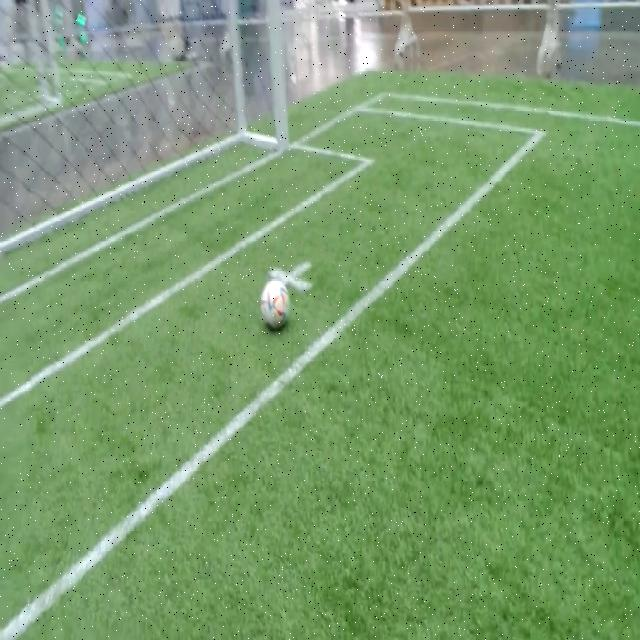ball: (260, 279, 288, 331)
goalpost: (272, 108, 291, 157)
